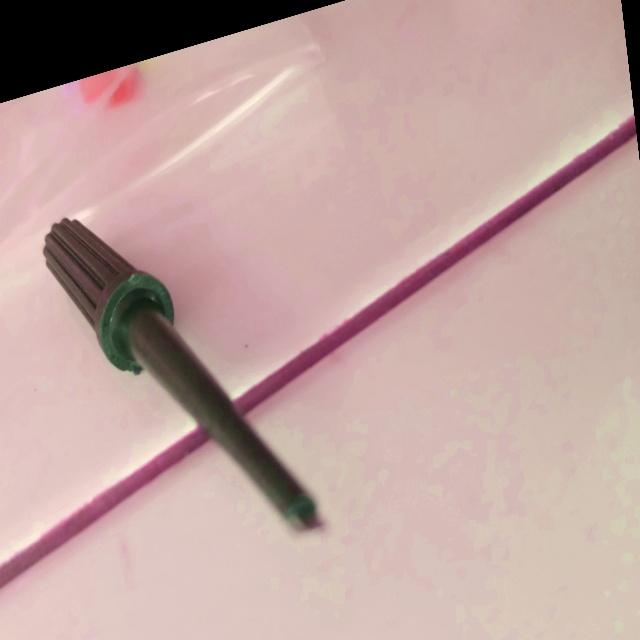Screw Driver: (28, 113, 343, 612)
